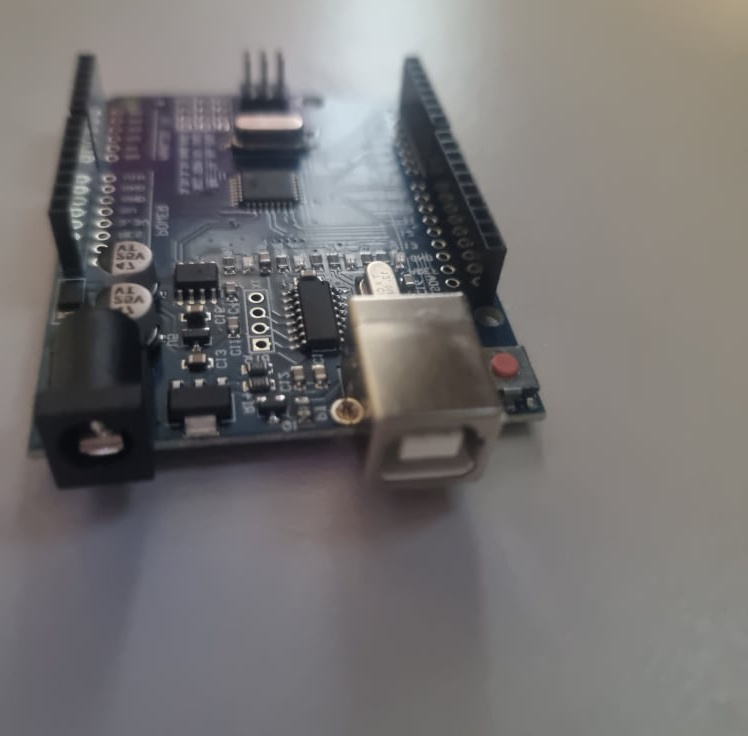UNO R3: (21, 52, 549, 503)
